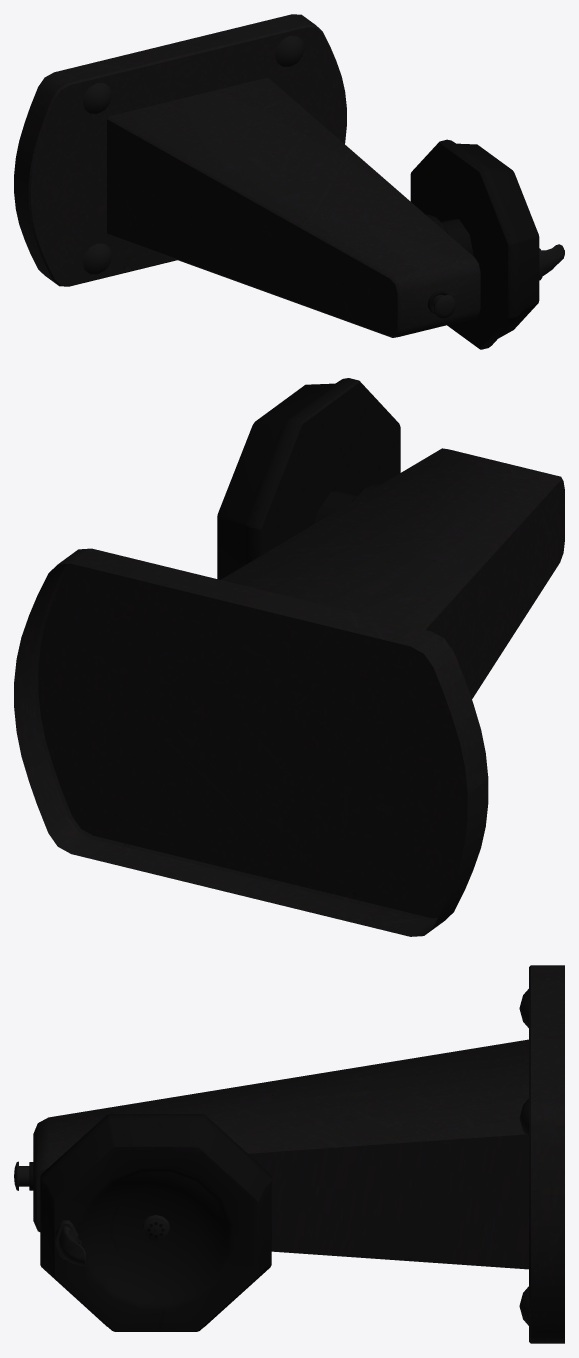
File: cP_DrinkingFountain03.dae
The picture shows the model from 3 angles, top to bottom: view 1: azimuth 30°, elevation 25°; view 2: azimuth 150°, elevation 25°; view 3: azimuth 270°, elevation 25°; orthographic projection. The views are drawn at different scales.
Parts seen in each view (by area): view 1: cP_DrinkingFountain03.001; view 2: cP_DrinkingFountain03.001; view 3: cP_DrinkingFountain03.001.
Boxes of the visible parts, x1=… form: cP_DrinkingFountain03.001: x1=14, y1=14, x2=564, y2=349; cP_DrinkingFountain03.001: x1=14, y1=378, x2=564, y2=936; cP_DrinkingFountain03.001: x1=14, y1=965, x2=564, y2=1343.
Bounding box in the file's own units: 1.01 × 1.19 × 0.5699.
